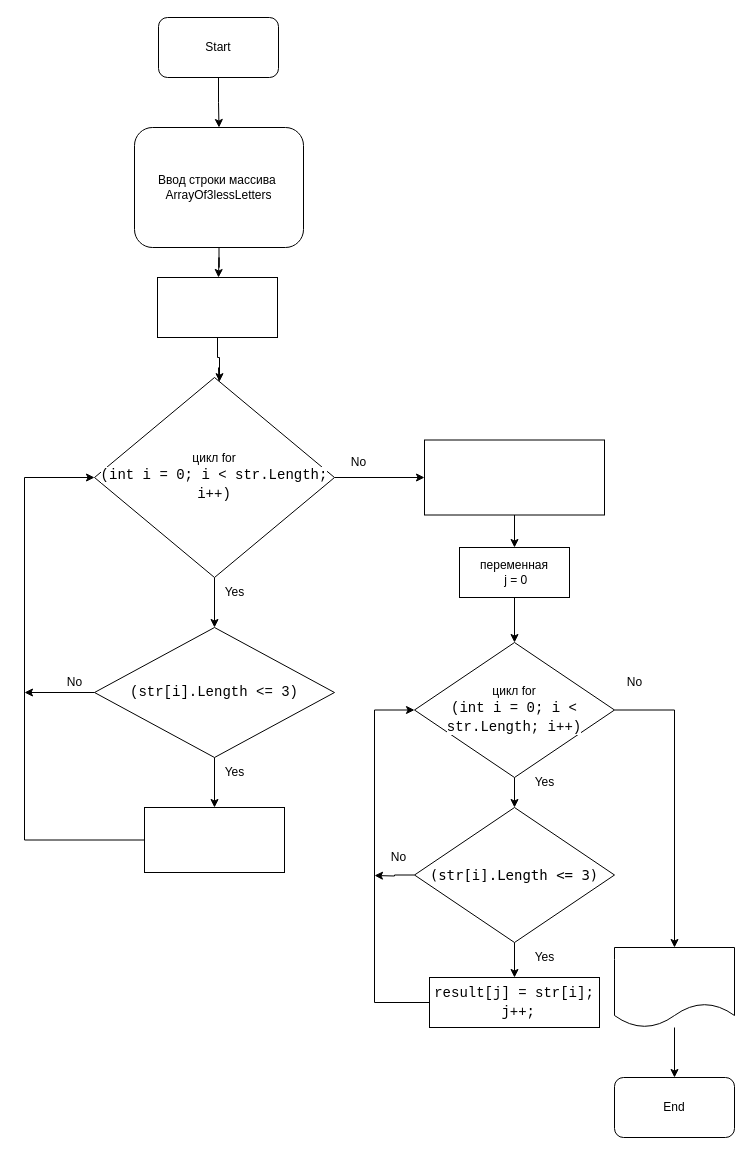
Image size: 752x1155. Some labels were removed from this diagram. The shapes that lost their labels are listed below. From the top down, each one's box as (x1, y1, x2, y2) in pixels, then its label:
(156, 276, 278, 338): count = 0
(424, 439, 604, 515): Выделение памяти под новый массив result размером count
(144, 806, 284, 872): count++;
(614, 946, 734, 1028): Функция вывода результата array []
